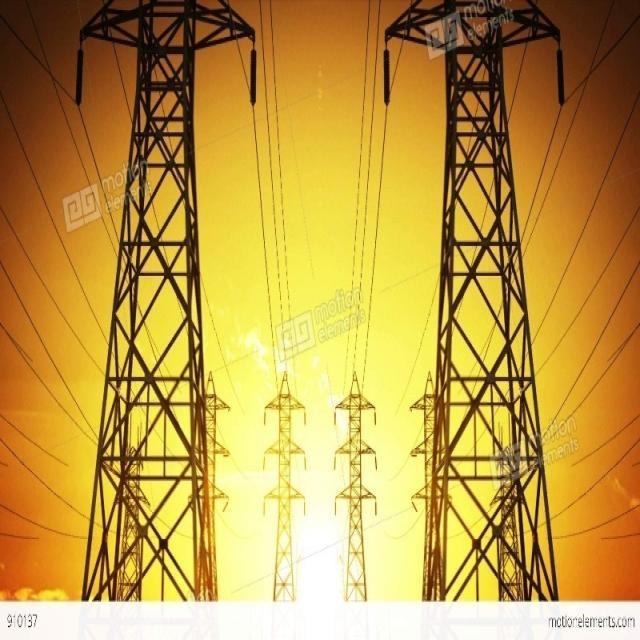non-critical vegetation: (380, 0, 582, 603), (70, 7, 246, 606), (330, 374, 378, 596), (268, 371, 310, 593)
